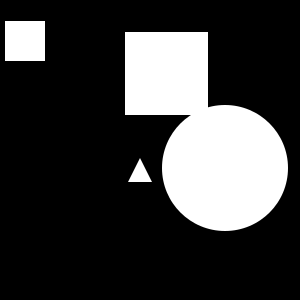circle: (125, 32, 208, 115), (5, 21, 45, 61)
rectangle: (162, 105, 288, 231), (212, 154, 246, 188)
triangle: (128, 158, 152, 182)
